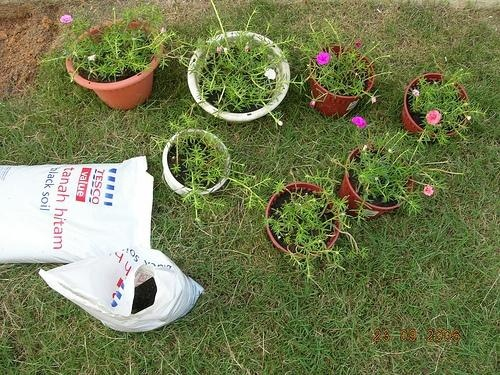pottedplant: (174, 4, 290, 138), (42, 5, 168, 117), (253, 169, 358, 277), (331, 129, 425, 221), (154, 117, 244, 212), (397, 54, 477, 152), (302, 18, 381, 117)
